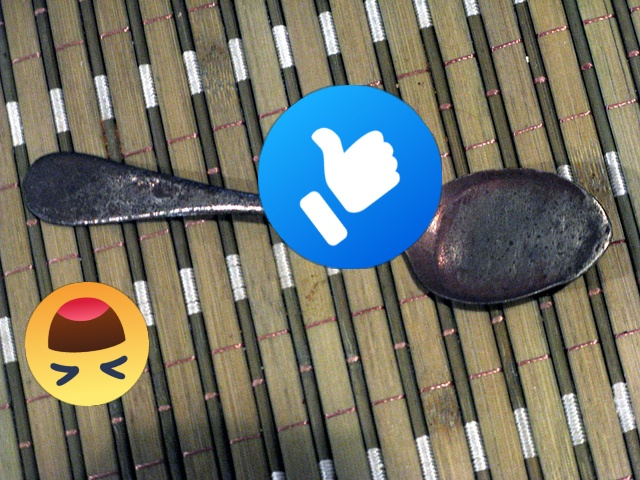haha: (25, 282, 149, 406)
like: (258, 85, 442, 269)
